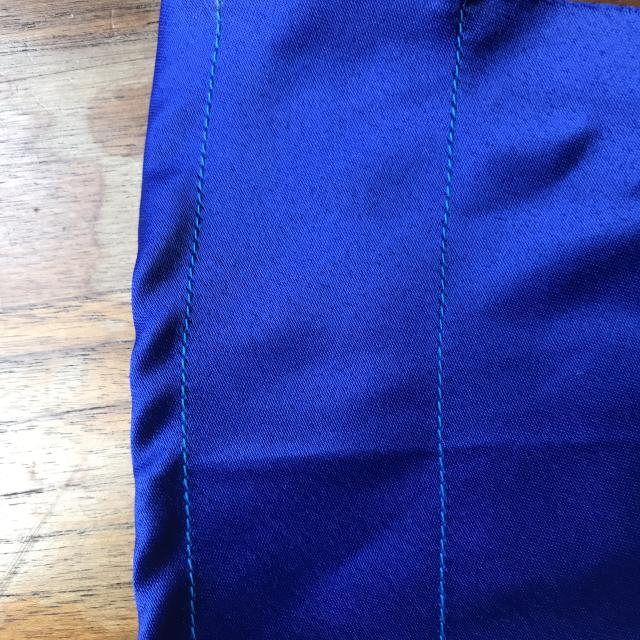good: (418, 151, 466, 368)
